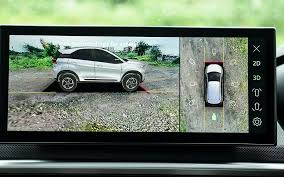Tata Nexon: (50, 45, 148, 94)
